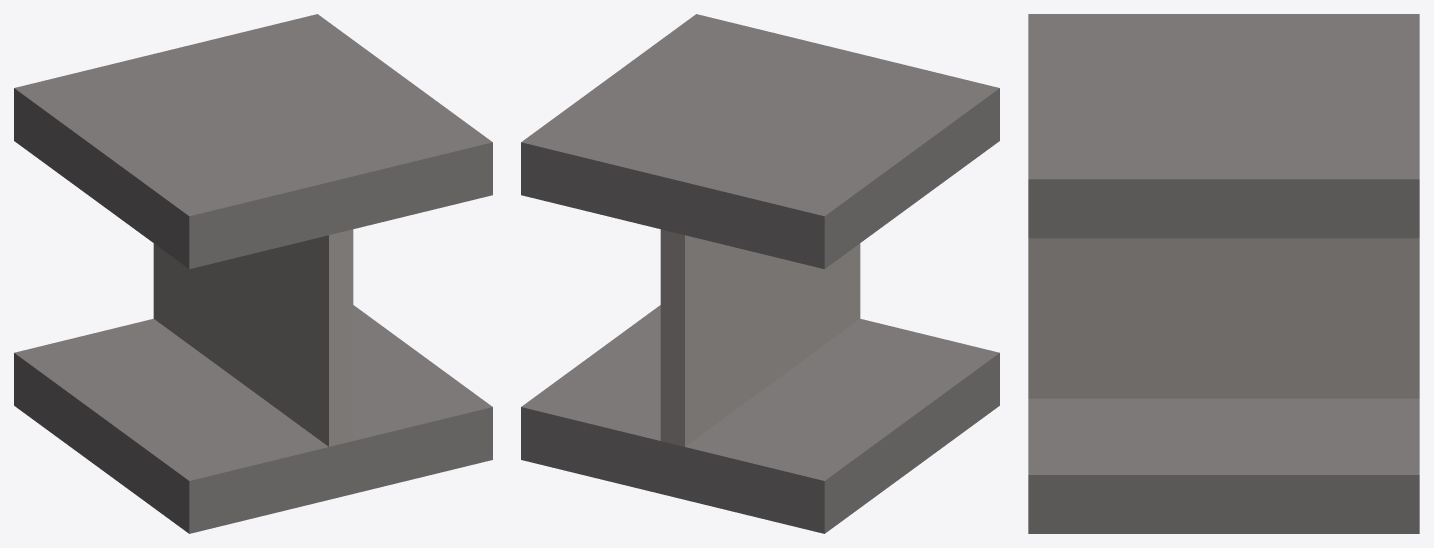
The model's file is balka.fbx.
3 views of the same model, side by side, from view 1: azimuth 30°, elevation 25°; view 2: azimuth 150°, elevation 25°; view 3: azimuth 270°, elevation 25° (orthographic). The views are drawn at different scales.
Parts seen in each view (by area): view 1: Balka; view 2: Balka; view 3: Balka.
Boxes of the visible parts, bbox=[...] form: Balka: bbox=[14, 14, 492, 533]; Balka: bbox=[521, 14, 999, 533]; Balka: bbox=[1028, 14, 1419, 533].
Bounding box in the file's own units: 200 × 200 × 200.
